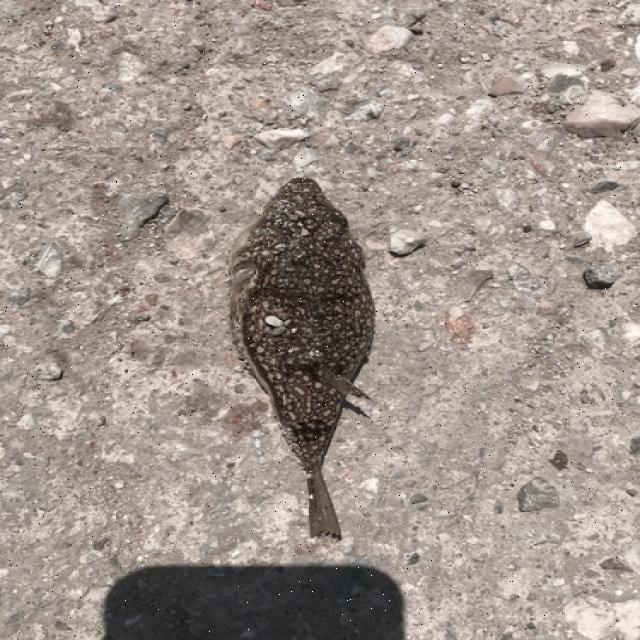Balik: (231, 178, 375, 538)
